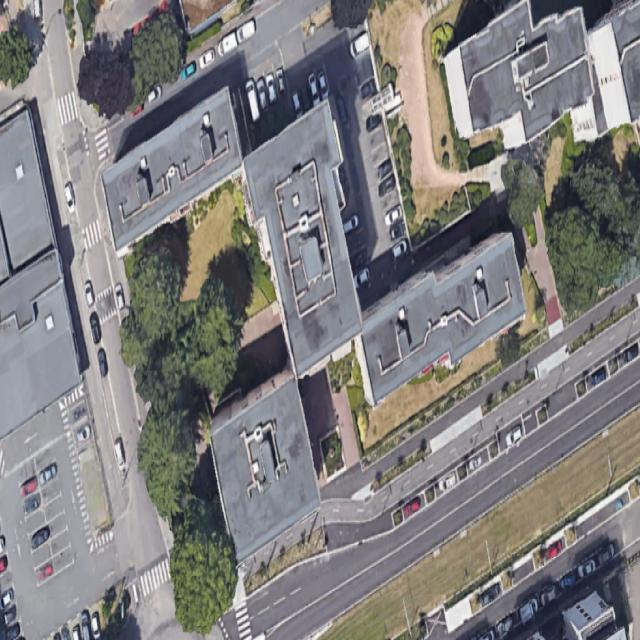immeuble: (322, 221, 553, 410), (229, 98, 379, 382), (73, 81, 271, 257), (196, 364, 331, 569)
